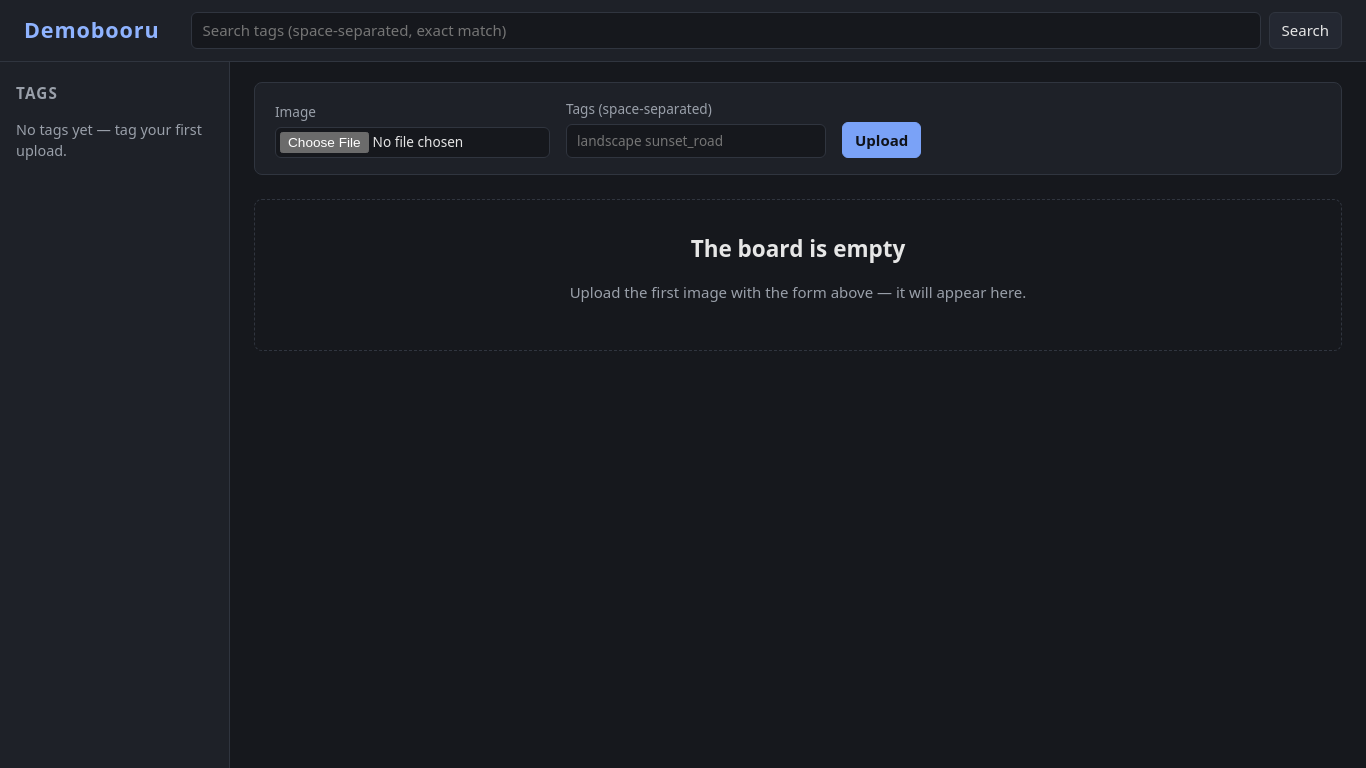
Test: search › shows a no-results state that names the query
Type "zebra quux" into the field labelled "Search tags" at [726, 30], box top-left (192, 12), bottom-right (1260, 48)
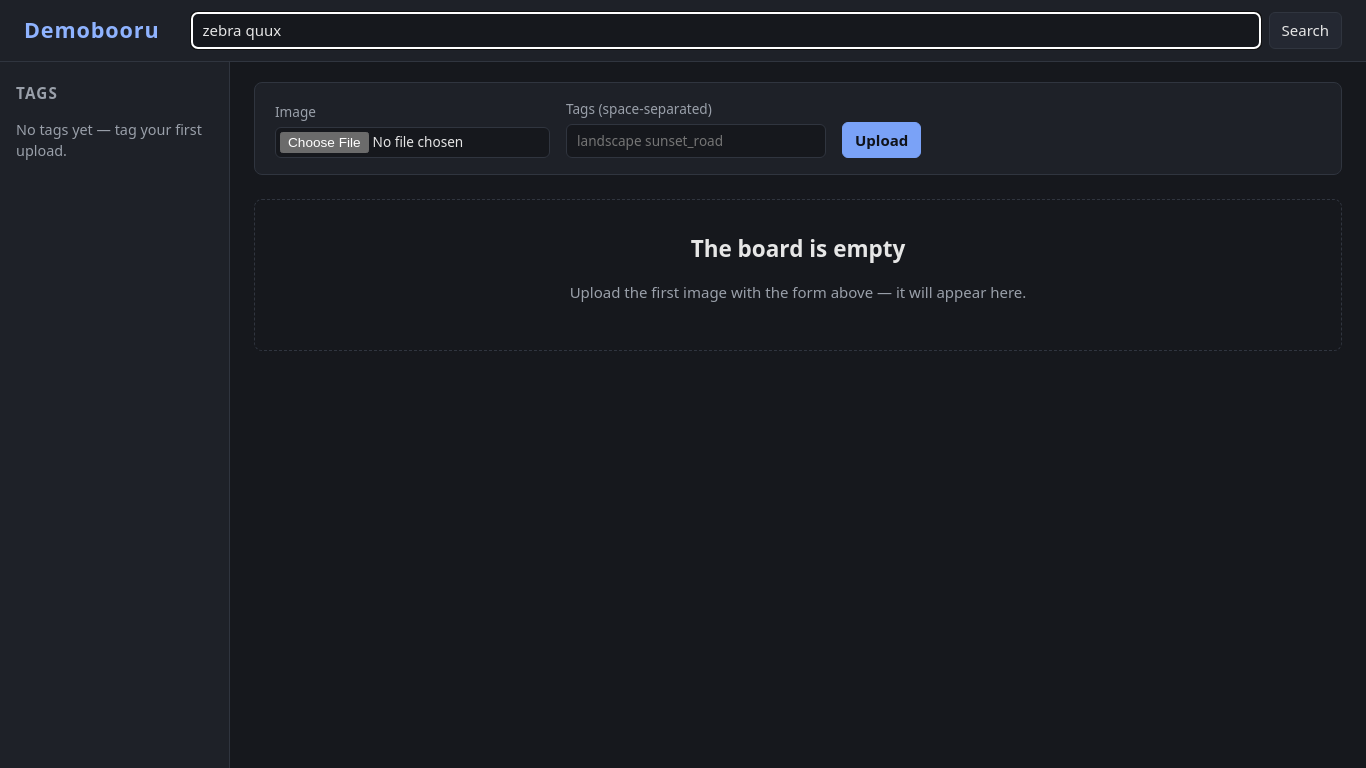
Click the button "Search" at [1305, 30], box top-left (1268, 12), bottom-right (1342, 48)
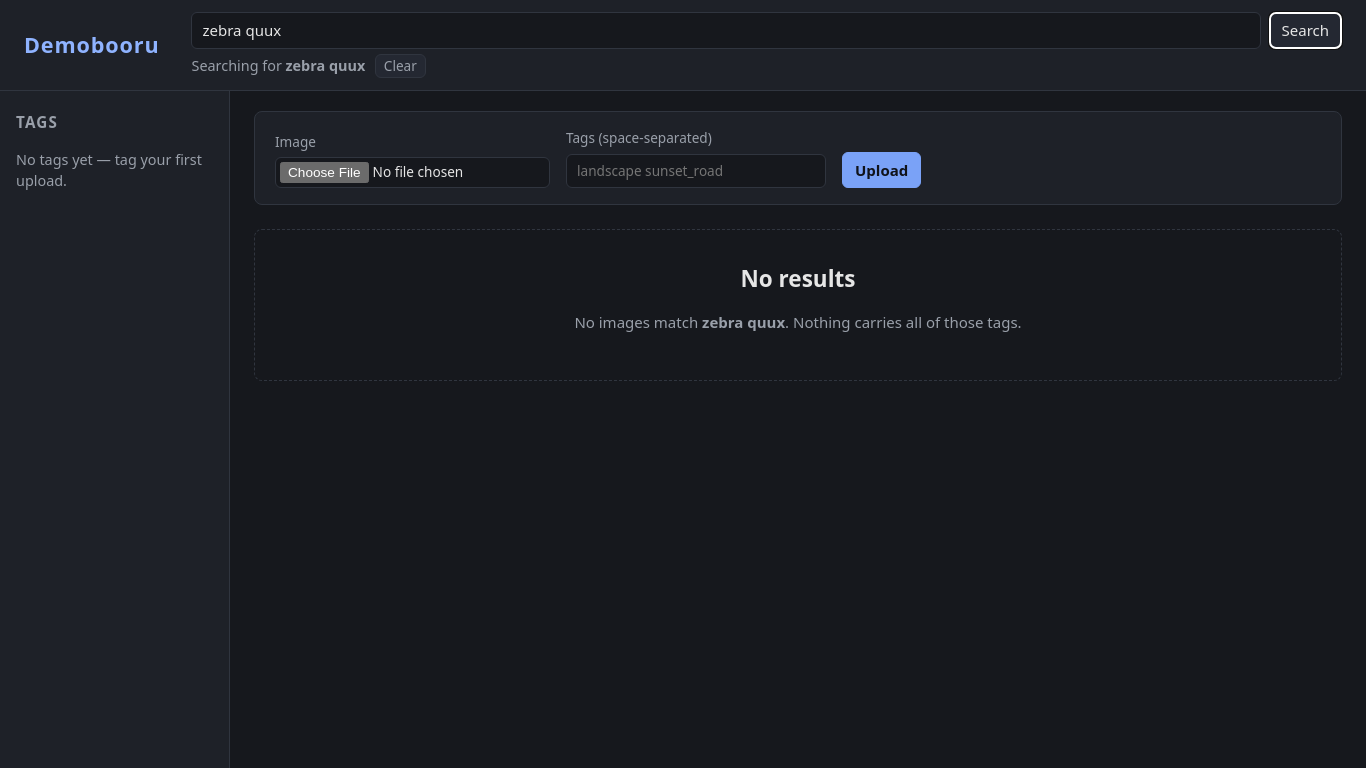
Expected: the heading "No results" is shown, top-left (740, 263), bottom-right (855, 294)
Expected: the text "No images match" shows "zebra quux", top-left (702, 312), bottom-right (785, 332)
Expected: the heading "The board is empty" is gone
